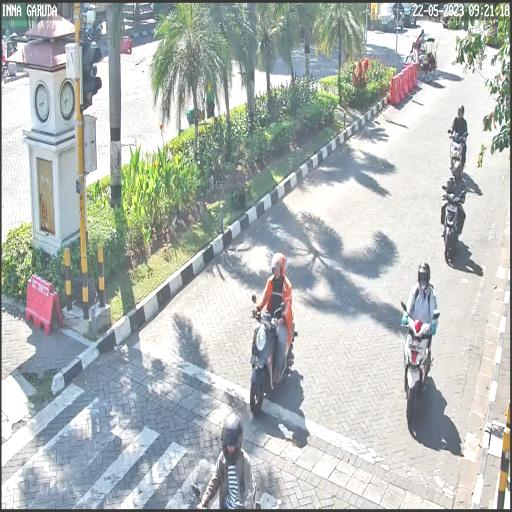motor: (394, 297, 447, 428), (245, 290, 300, 416), (440, 180, 468, 268), (446, 126, 472, 181)
